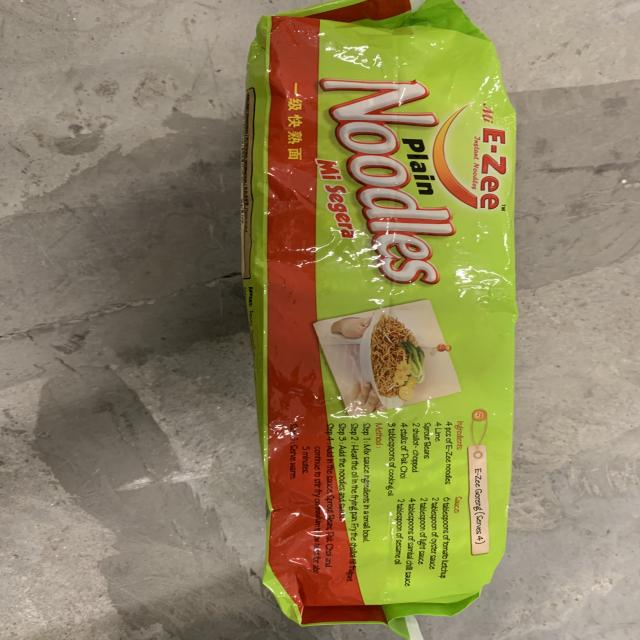object_name: (254, 8, 510, 597)
